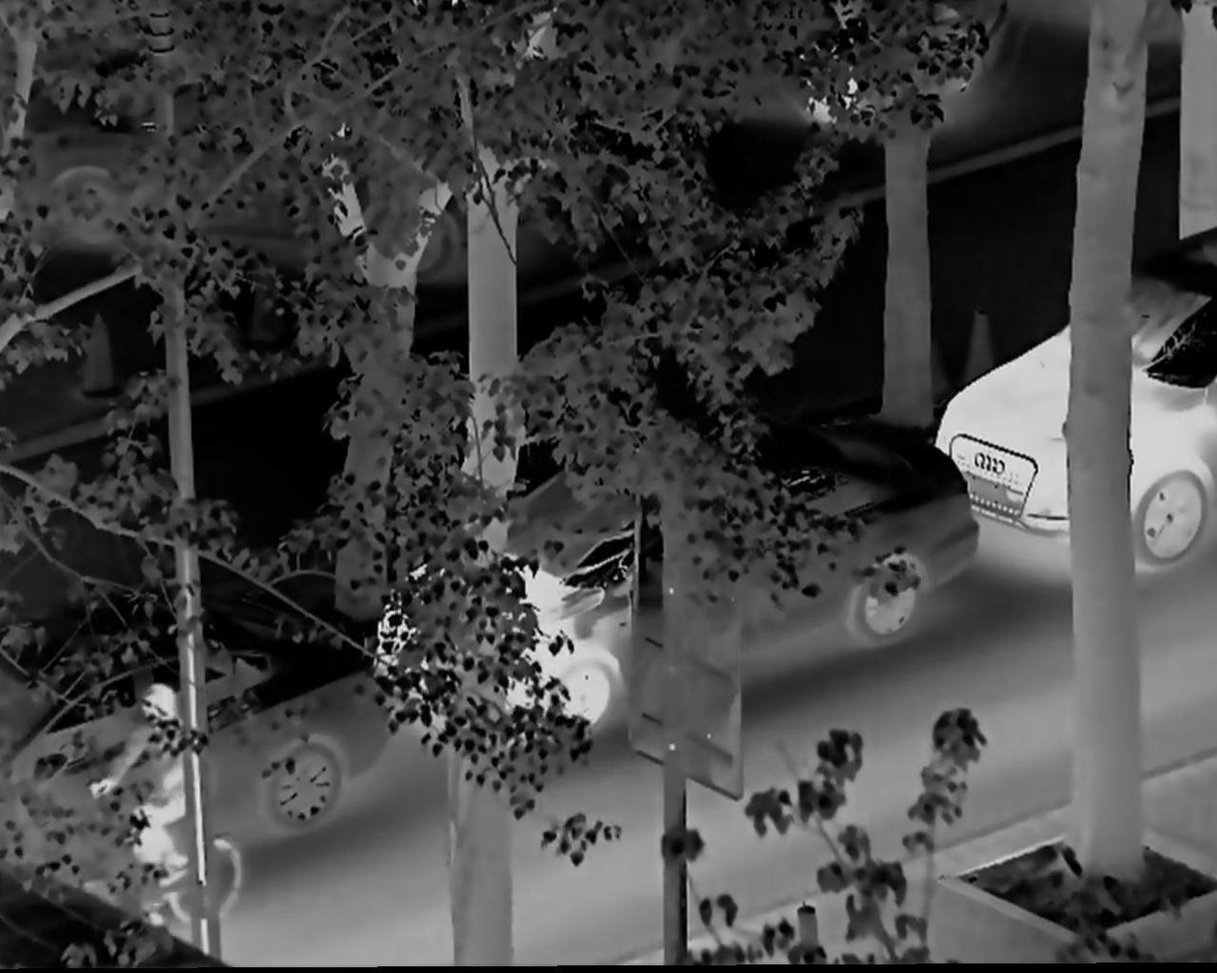person: (107, 671, 202, 911)
